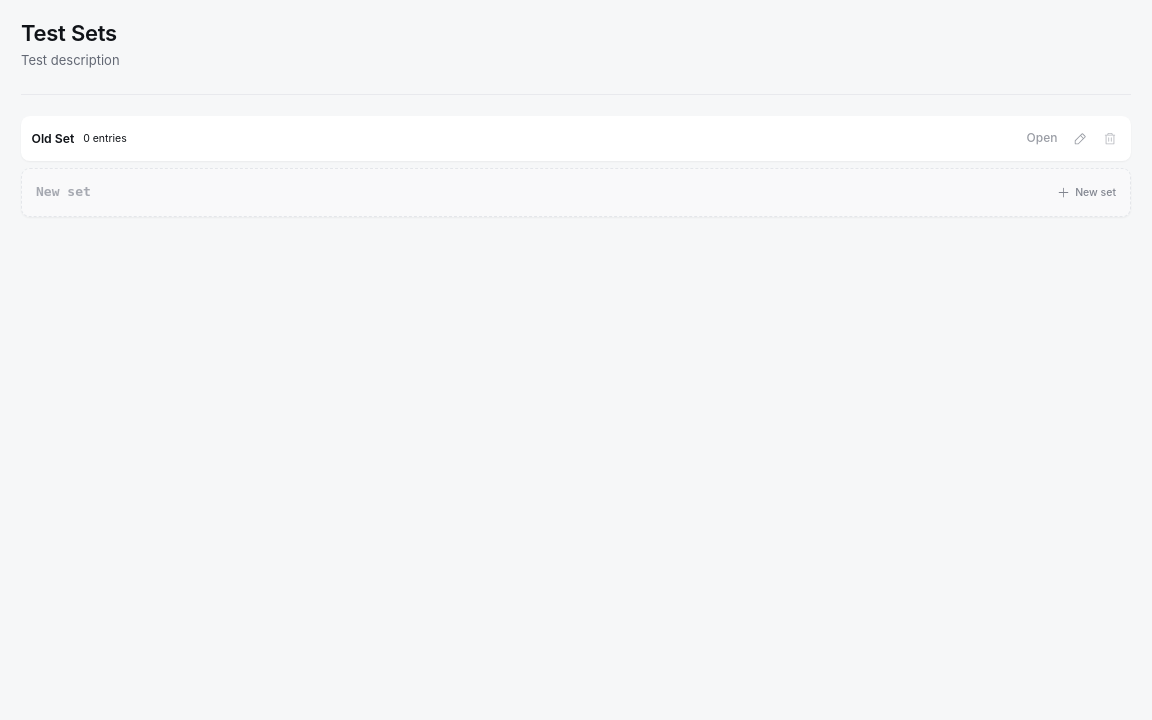
SetManagementPage – delete › shows affected profile names in dialog
This screenshot has width=1152, height=720.
Click the button named "Delete set": (1110, 139) [1096,125,1124,153]
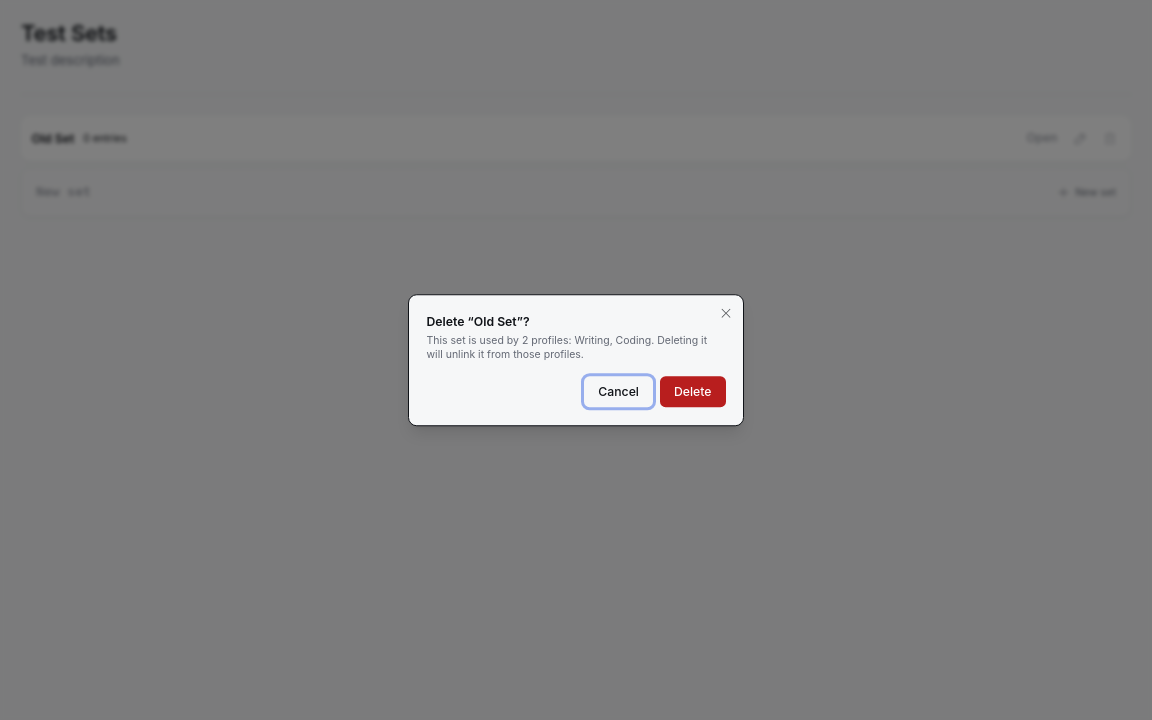
Result: the text "Coding" is shown at [522,334,651,347]
